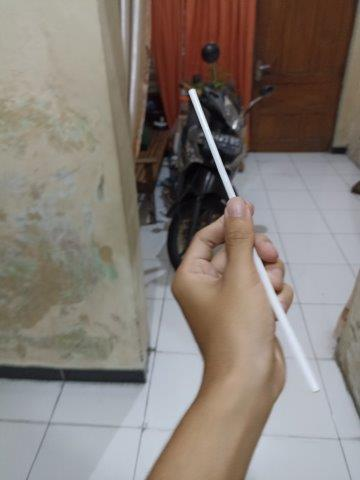sedotan: (189, 85, 318, 391)
